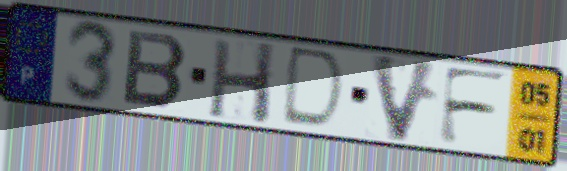3: (61, 15, 120, 110)
B: (119, 27, 192, 112)
D: (277, 43, 349, 134)
F: (435, 63, 513, 149)
H: (206, 37, 280, 128)
V: (368, 50, 444, 146)
